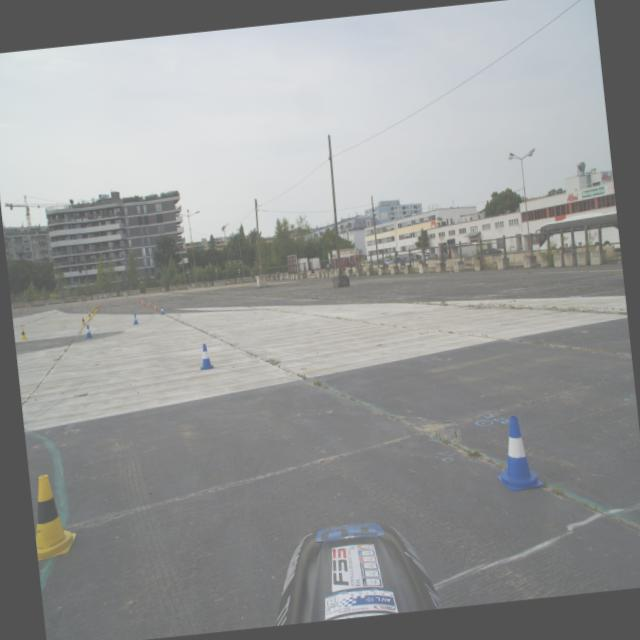blue_cone: (489, 412, 544, 492), (196, 342, 214, 370), (84, 324, 93, 338), (132, 314, 138, 324), (160, 306, 164, 314)
orange_cone: (152, 302, 158, 310), (147, 300, 151, 308), (16, 308, 21, 314), (96, 302, 100, 308), (140, 298, 143, 304), (25, 307, 28, 312), (58, 304, 61, 309), (142, 299, 144, 306), (137, 298, 140, 302), (68, 302, 70, 308), (125, 298, 128, 302), (84, 302, 86, 307), (98, 302, 100, 306), (104, 300, 105, 304)
yellow_cone: (29, 472, 78, 560), (18, 327, 28, 340), (80, 316, 86, 326), (86, 310, 92, 320), (91, 308, 95, 315), (92, 306, 96, 312), (94, 304, 98, 310)
